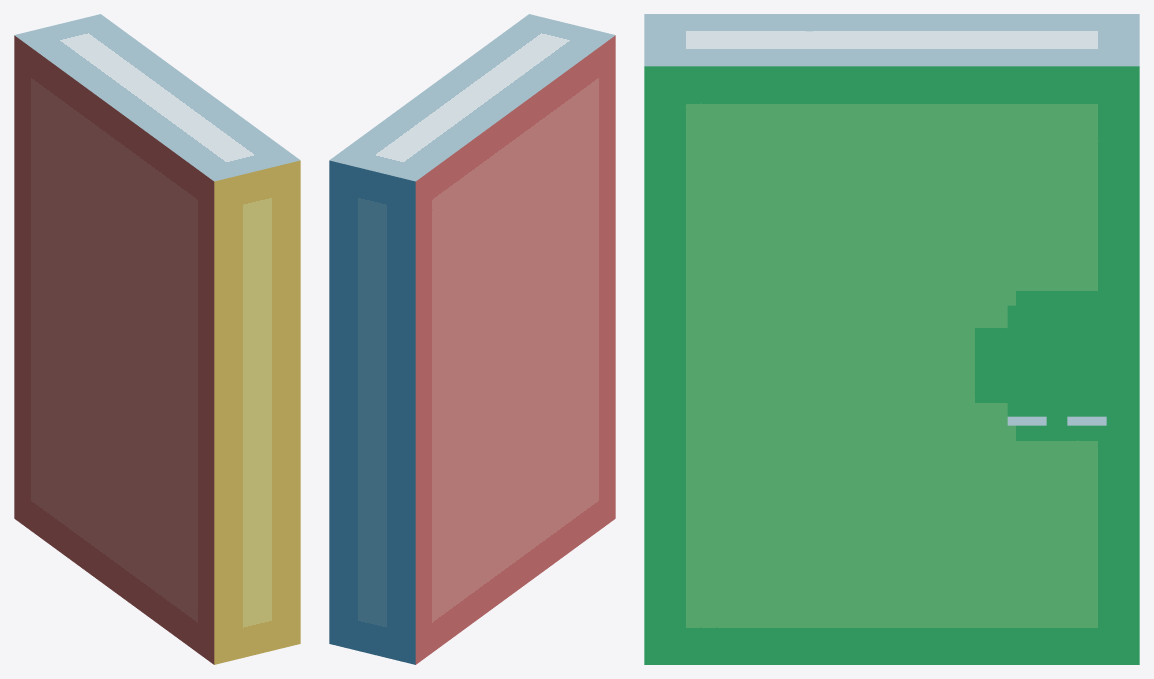
The model's file is Electrical_Cabinet.gltf.
3 renders of one model, left to right at view 1: azimuth 30°, elevation 25°; view 2: azimuth 150°, elevation 25°; view 3: azimuth 270°, elevation 25°, orthographic. The views are drawn at different scales.
Parts seen in each view (by area): view 1: Main; view 2: Main; view 3: Main, Handle.
Part boxes in pixels (x1,y1,x2,y2): Main: (14, 14, 300, 664); Main: (329, 14, 615, 664); Main: (644, 14, 1139, 664); Handle: (1046, 305, 1067, 425).
Size of the model in its own units: 0.1875 by 1 by 0.75.
Materials: 1 (1 with a texture image).
